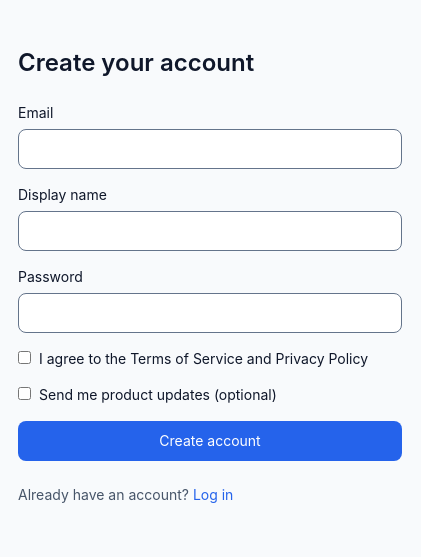
RegisterPage › blocks submission with an inline error when the TOS/privacy checkbox is not checked
Type "new@test.local" into the field labelled "Email" at (210, 149), box [18,129,402,169]
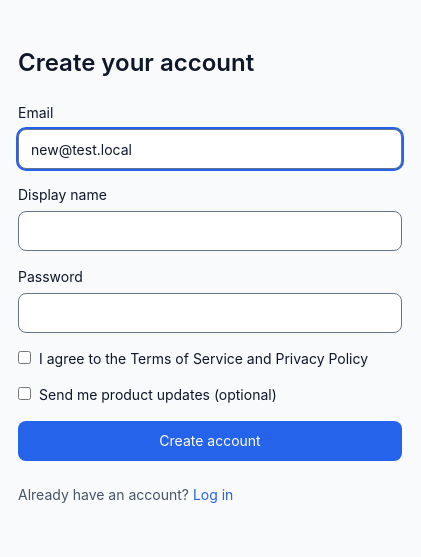
Type "New User" into the field labelled "Display name" at (210, 231), box [18,211,402,251]
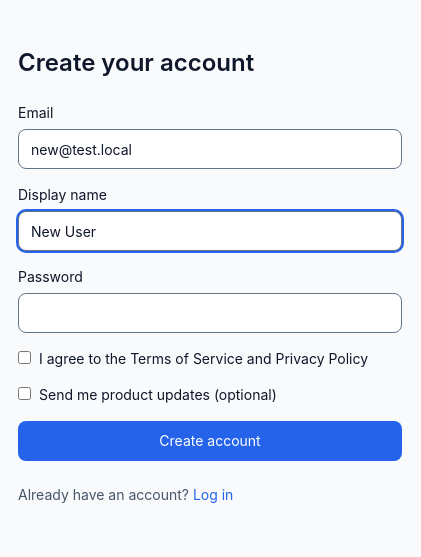
Type "correct horse battery staple" into the password field labelled "Password" at (210, 313), box [18,293,402,333]
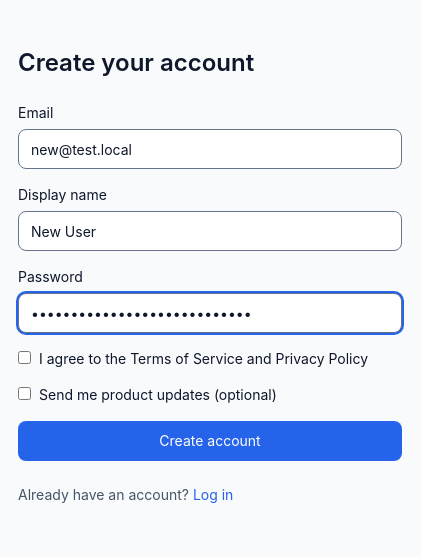
Click the button "Create account" at (210, 441), box [18,421,402,461]
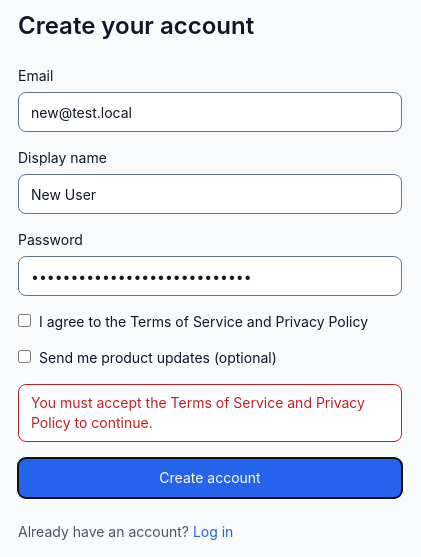
expect the message shows "Terms of Service": met, box [31,394,365,431]
